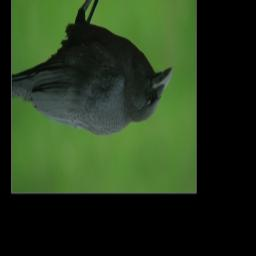Crow: (11, 0, 174, 135)
